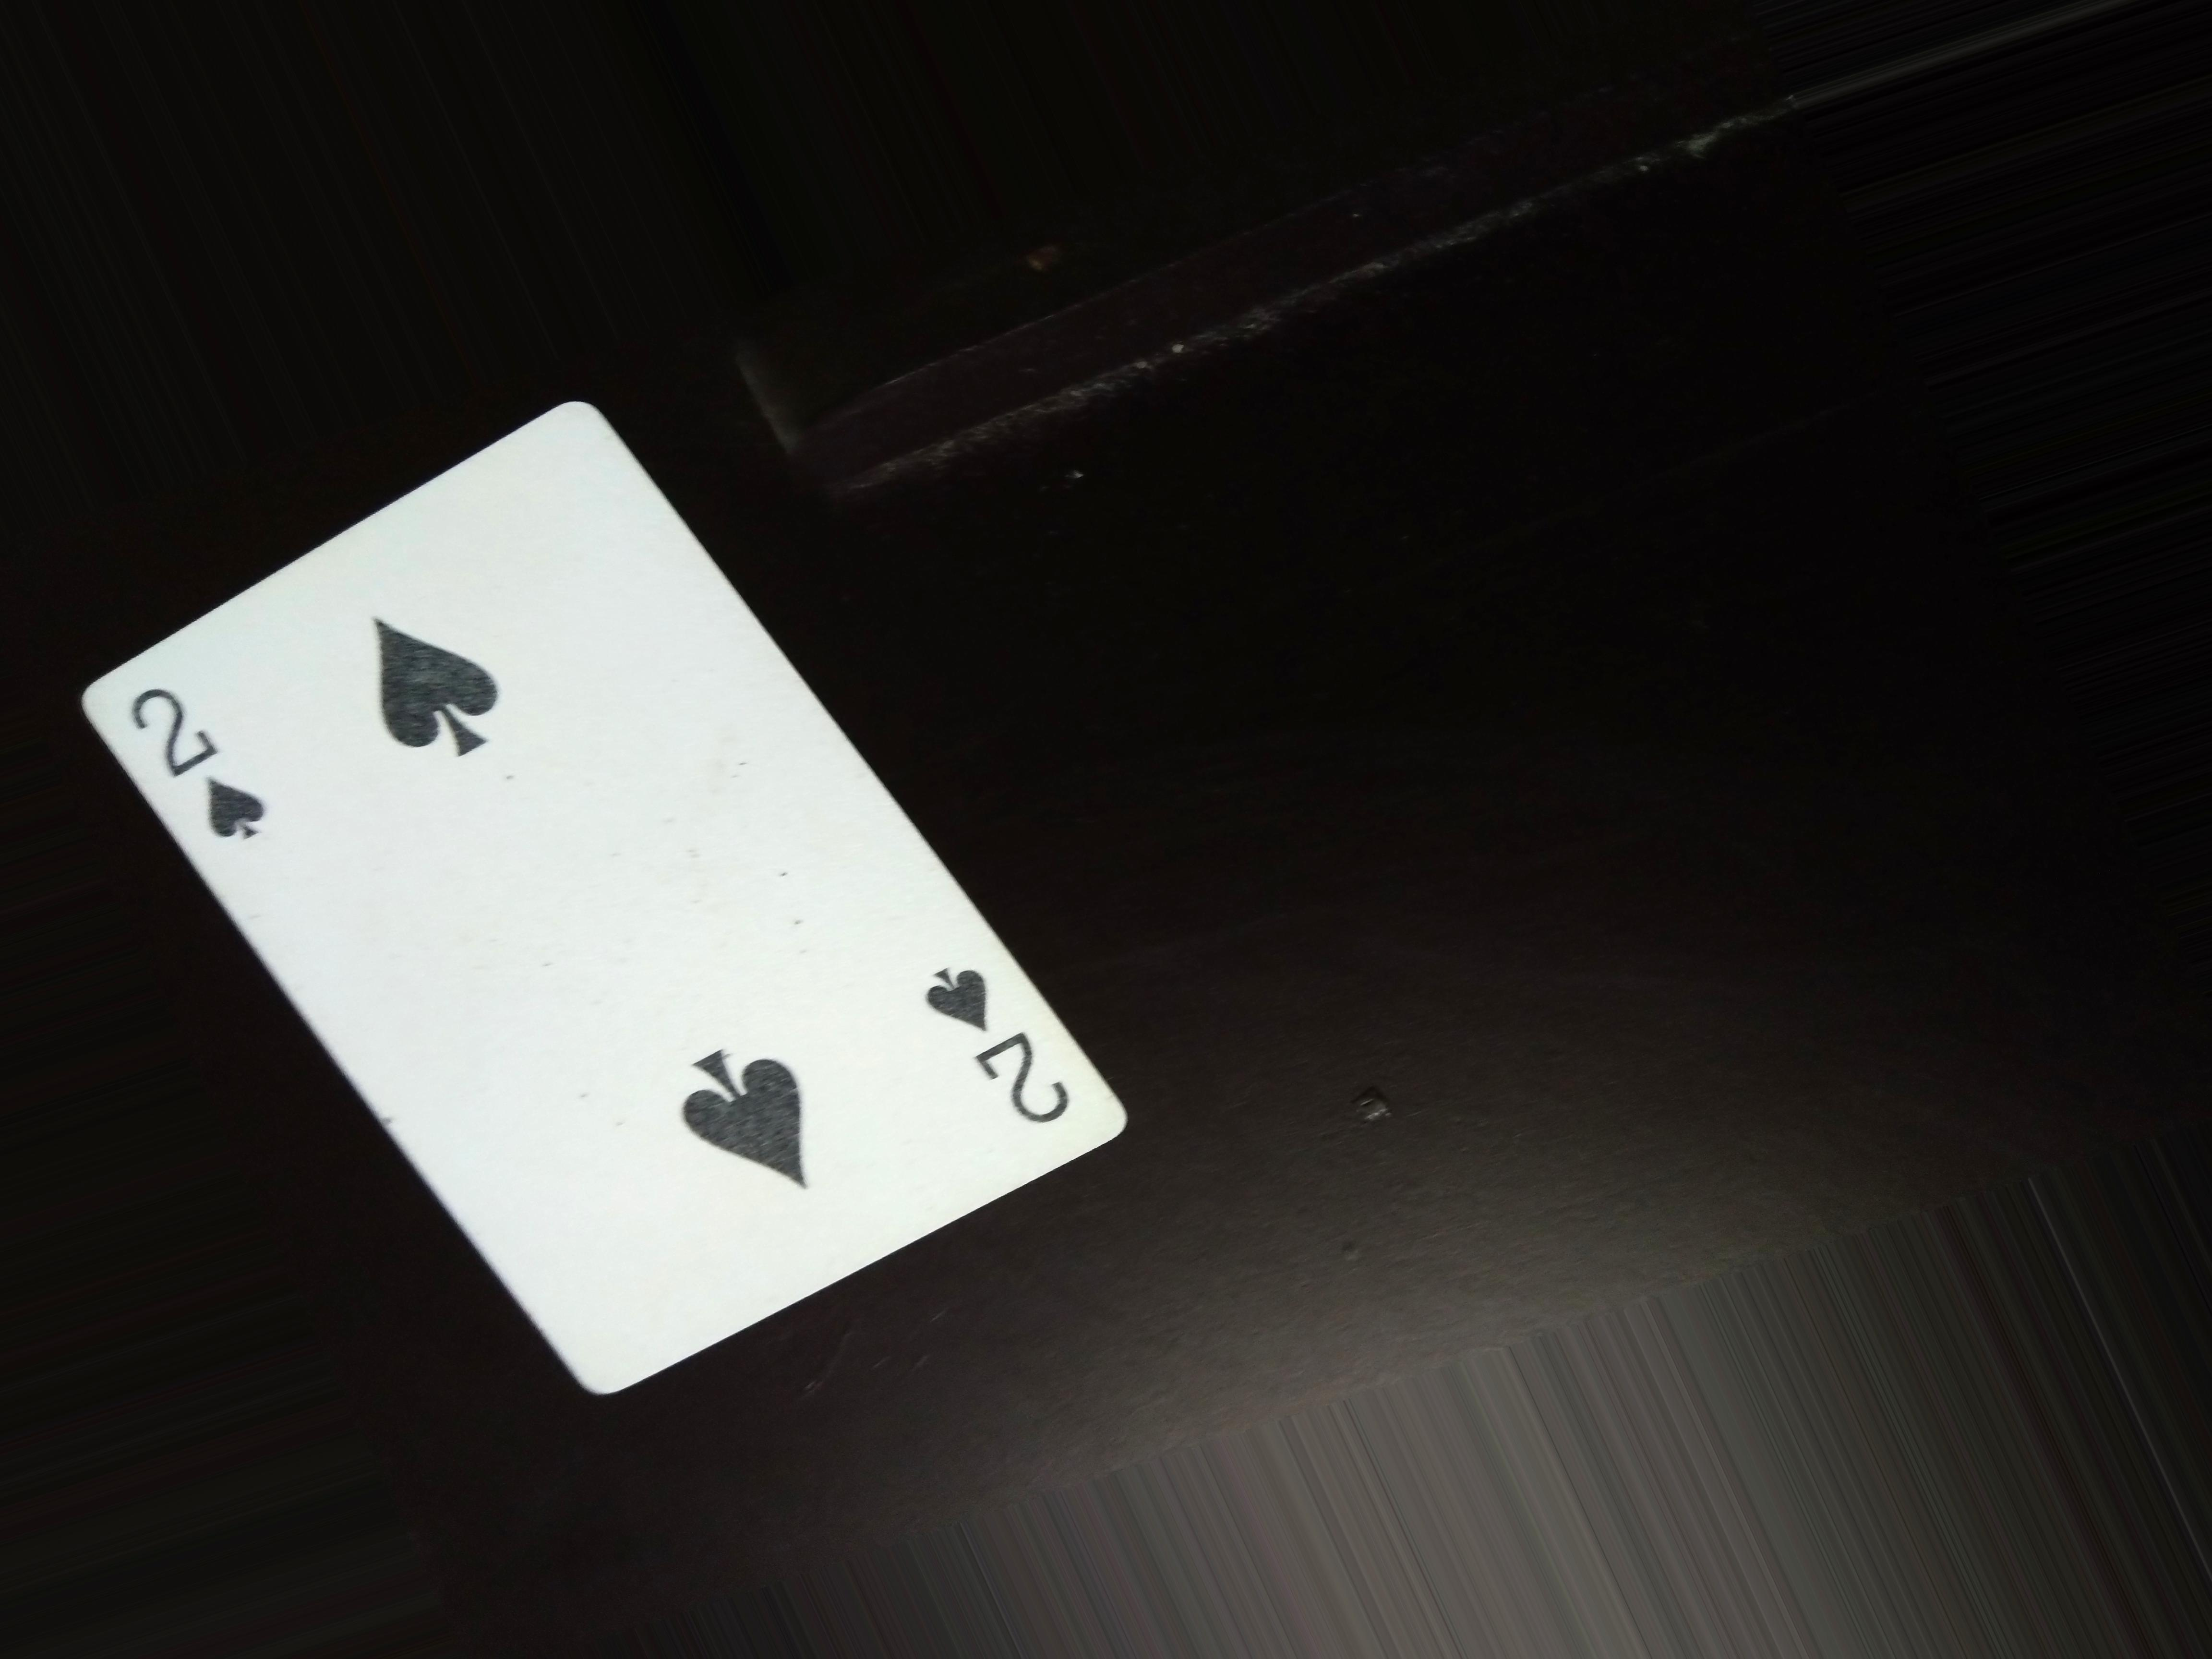2S: (108, 676, 294, 857)
